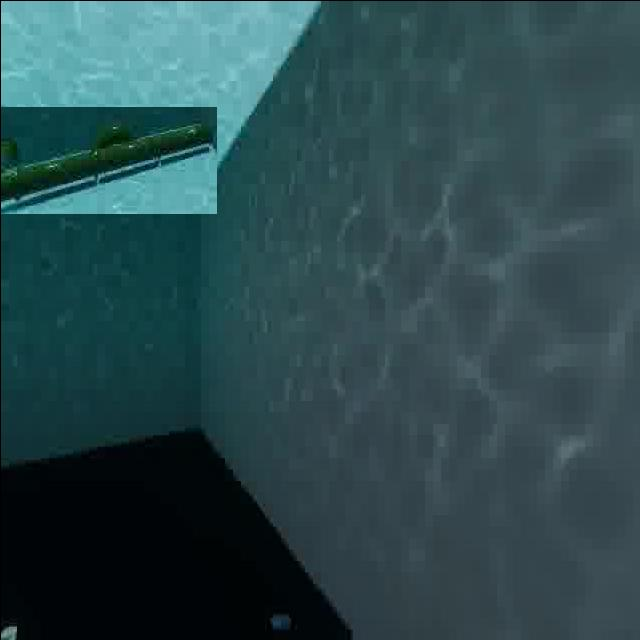Pipe: (0, 106, 216, 213)
